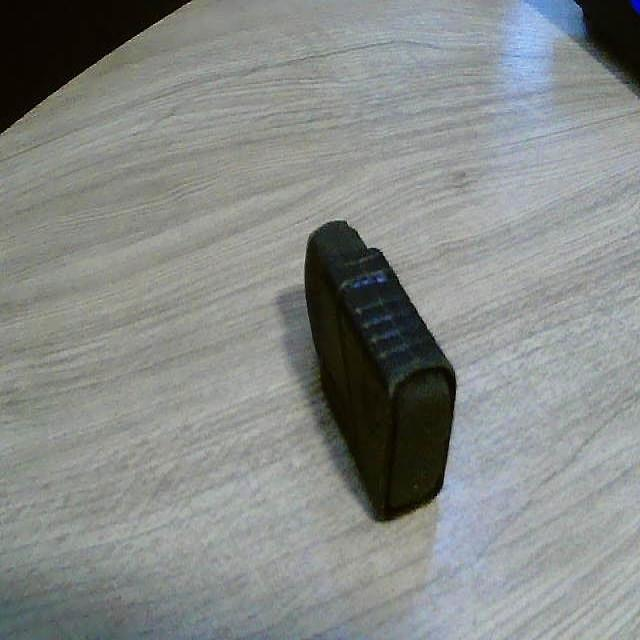borracha: (260, 157, 480, 537)
